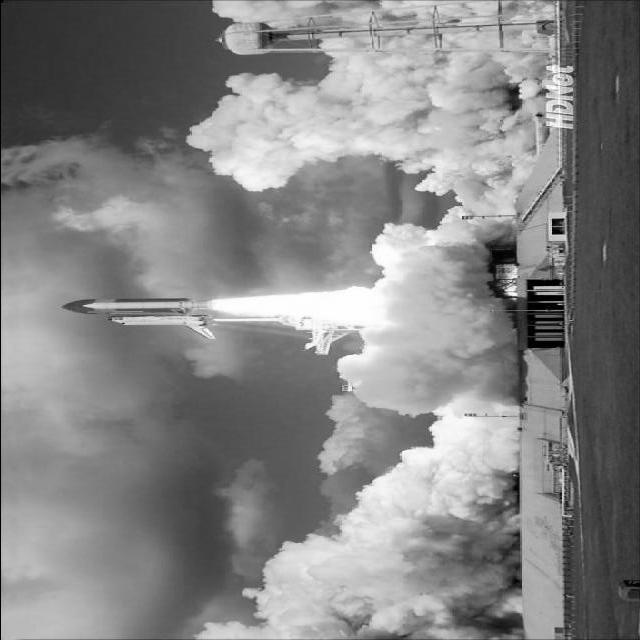missile: (79, 298, 210, 310), (105, 315, 214, 327)
